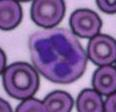N: (29, 28, 86, 83)
